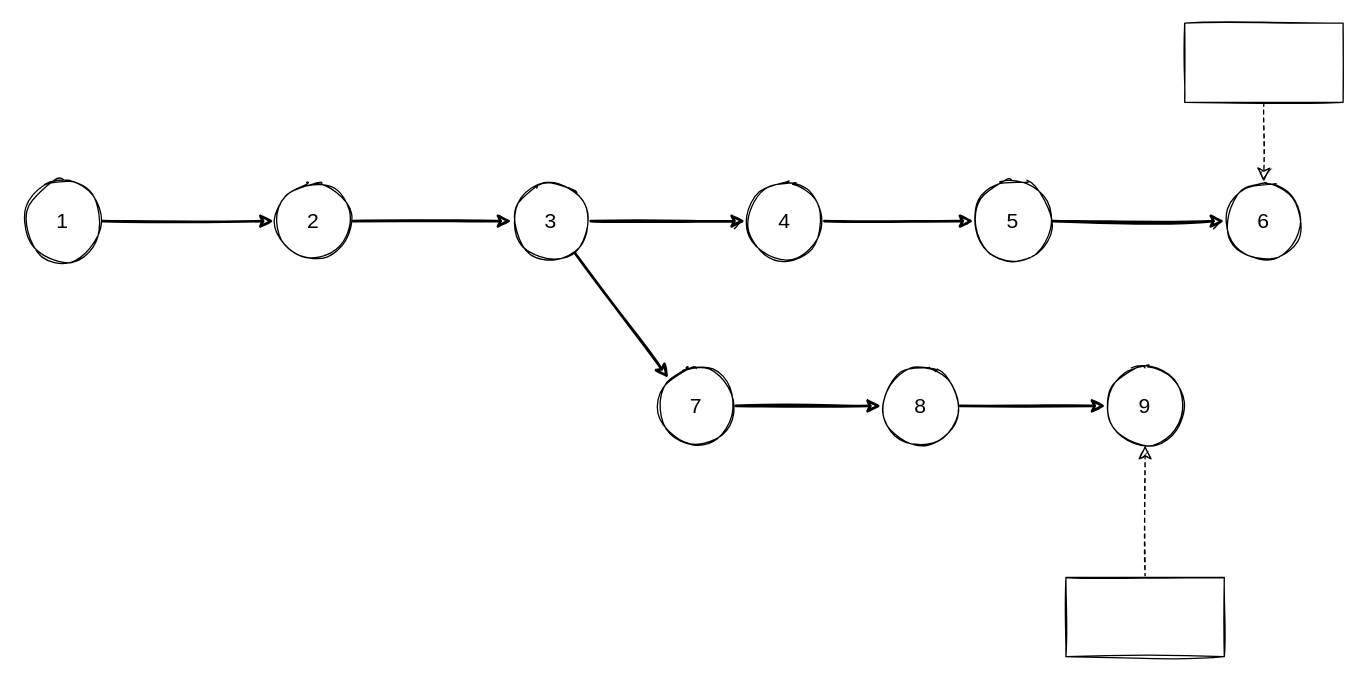
This 1366x680 diagram has some shape labels left out. The centre of each missing label's shape, as x and y in pixels:
"main-branch" belongs at point 1263,62.
"some-branch" belongs at point 1144,616.
